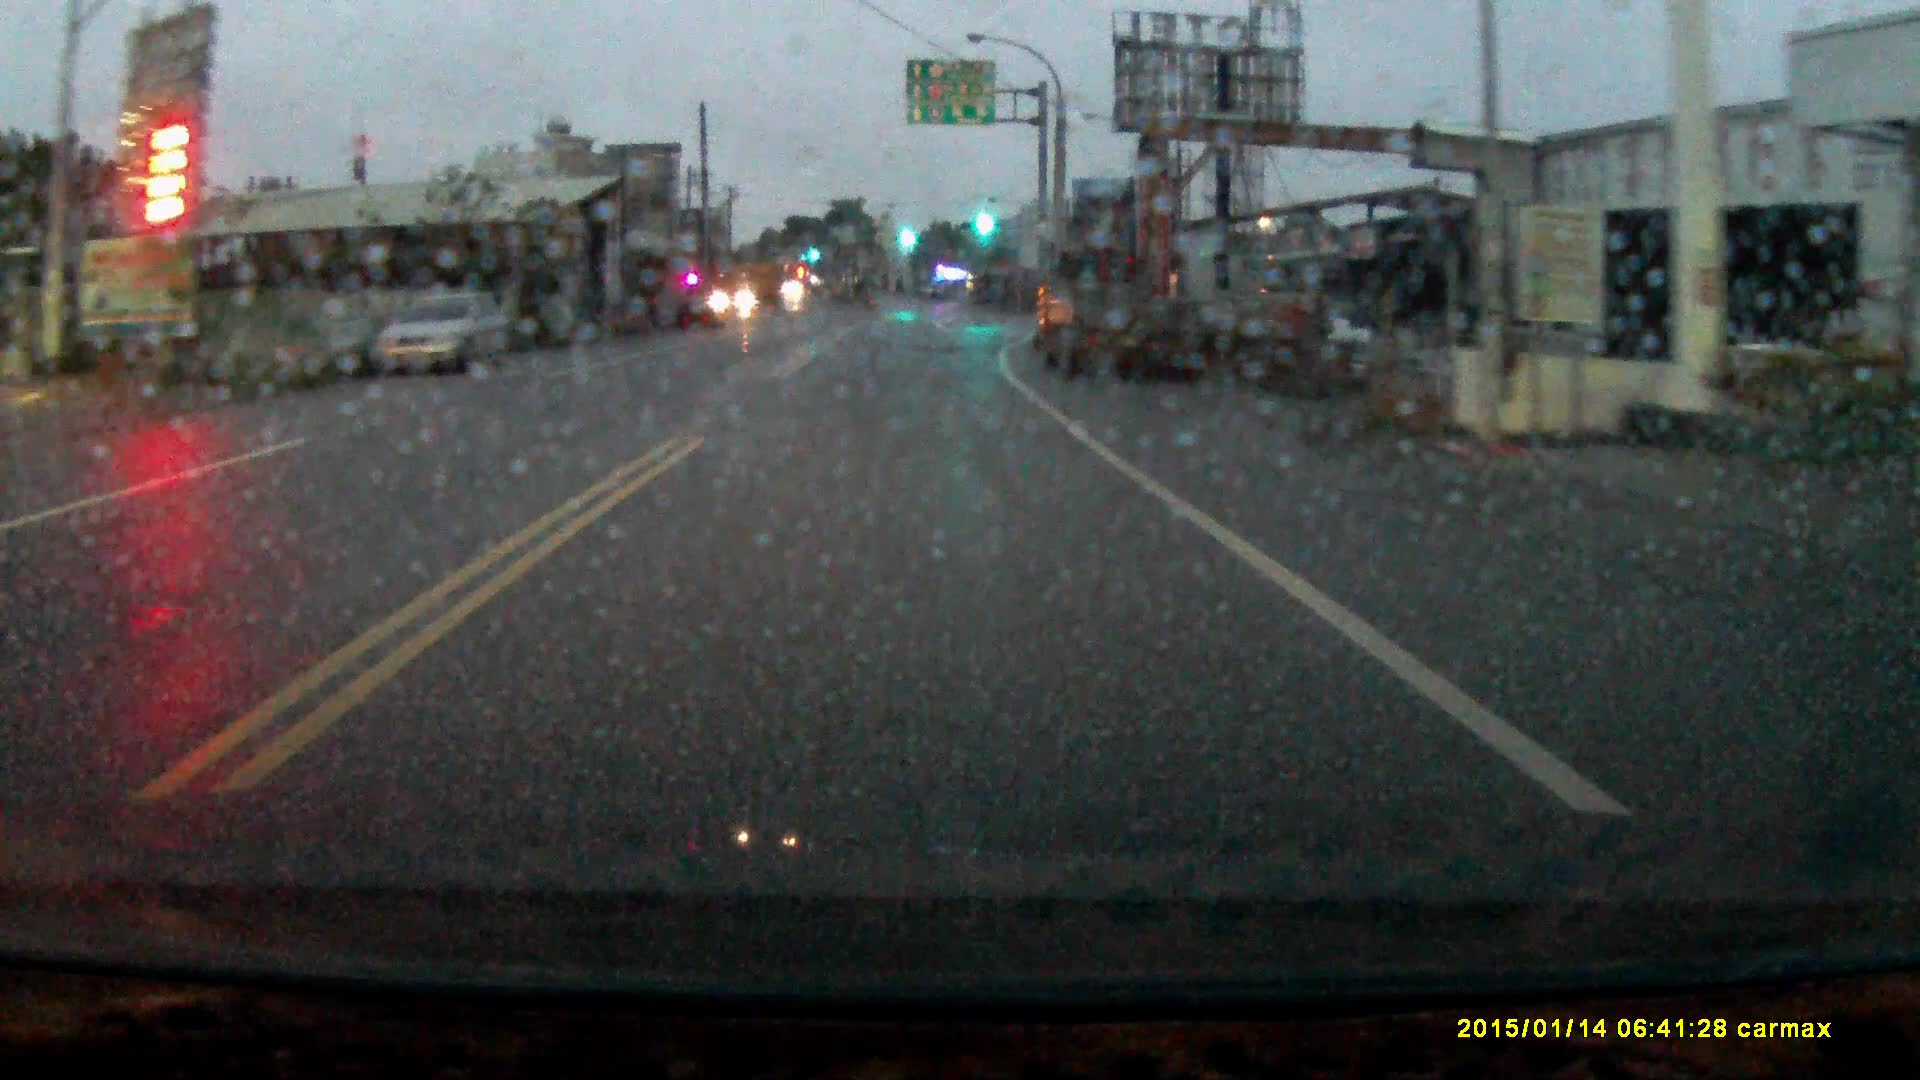vehicle: (1035, 255, 1166, 388), (369, 294, 512, 376), (709, 260, 783, 320)
